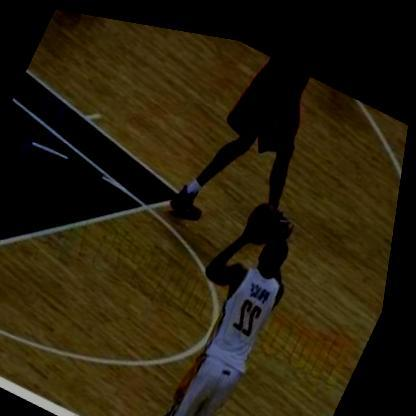basketball: (251, 187, 291, 234)
